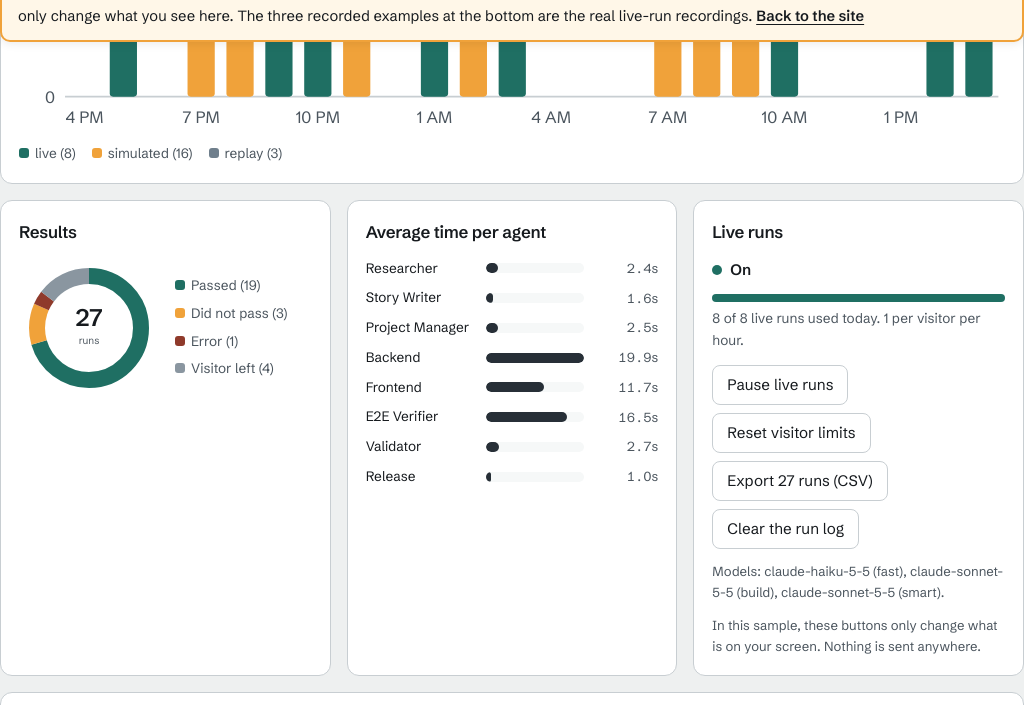
Test: DemoDashboard (public sample-data page) › lets a visitor try the controls on their own screen: pause, resume, clear
(page scrolled)
Click the button "Pause live runs" at (780, 385), box [712,365,848,405]
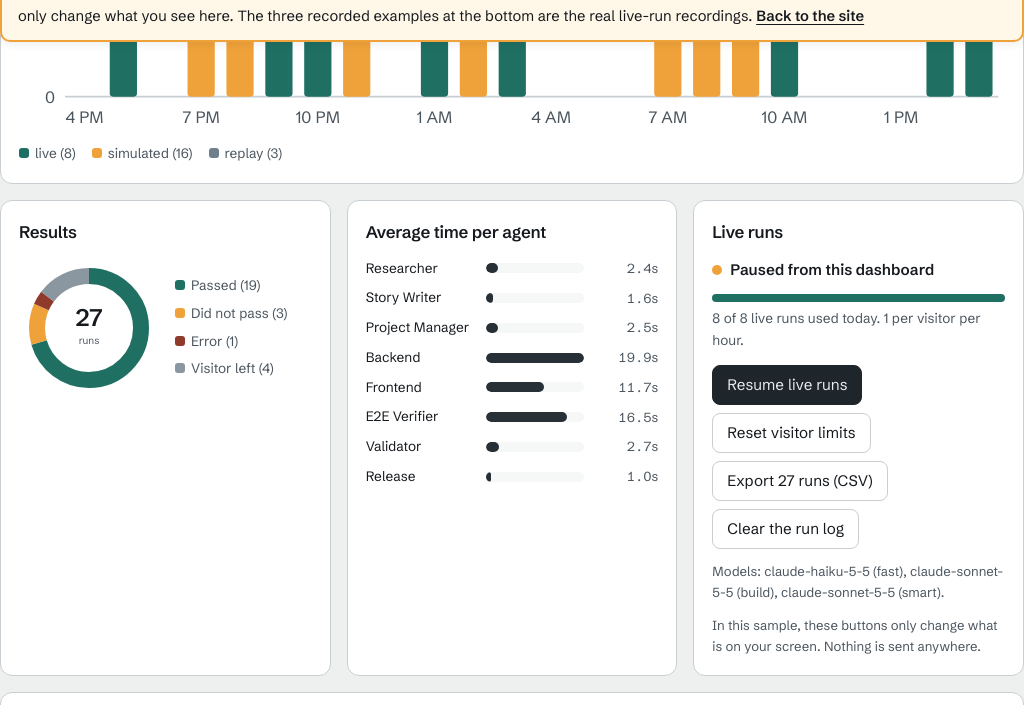
Expected: the text "Paused from this dashboard" is shown, [712,260,934,279]
Click the button "Resume live runs" at (787, 385), box [712,365,862,405]
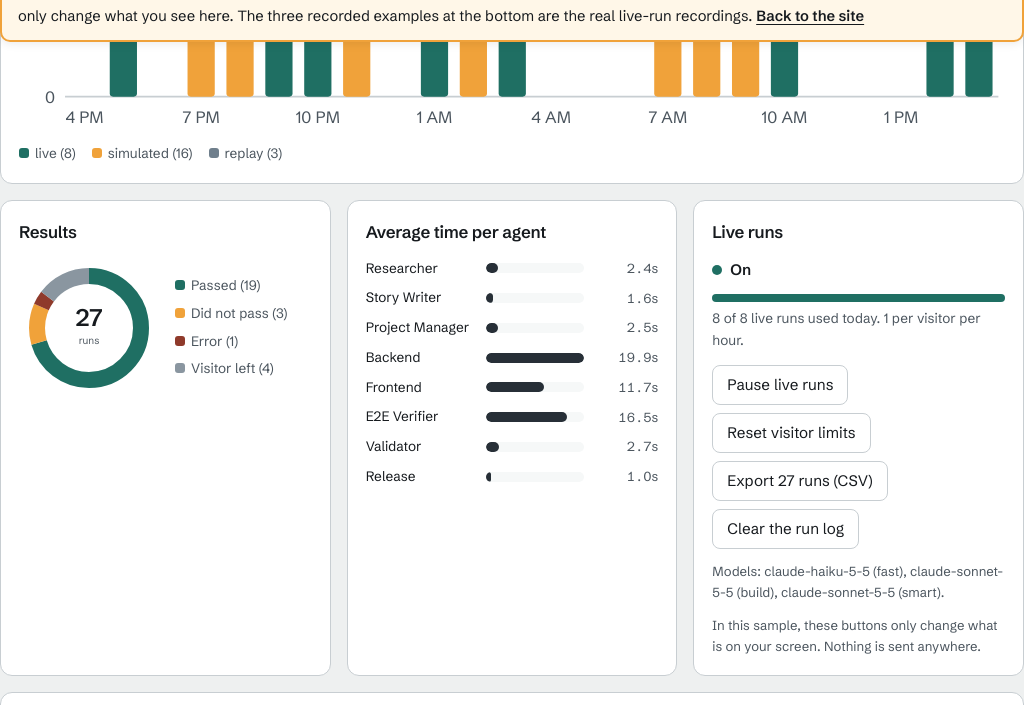
Expected: the text "On" is shown, [712,260,751,279]
Click the button "Clear the run log" at (786, 529), box [712,509,859,549]
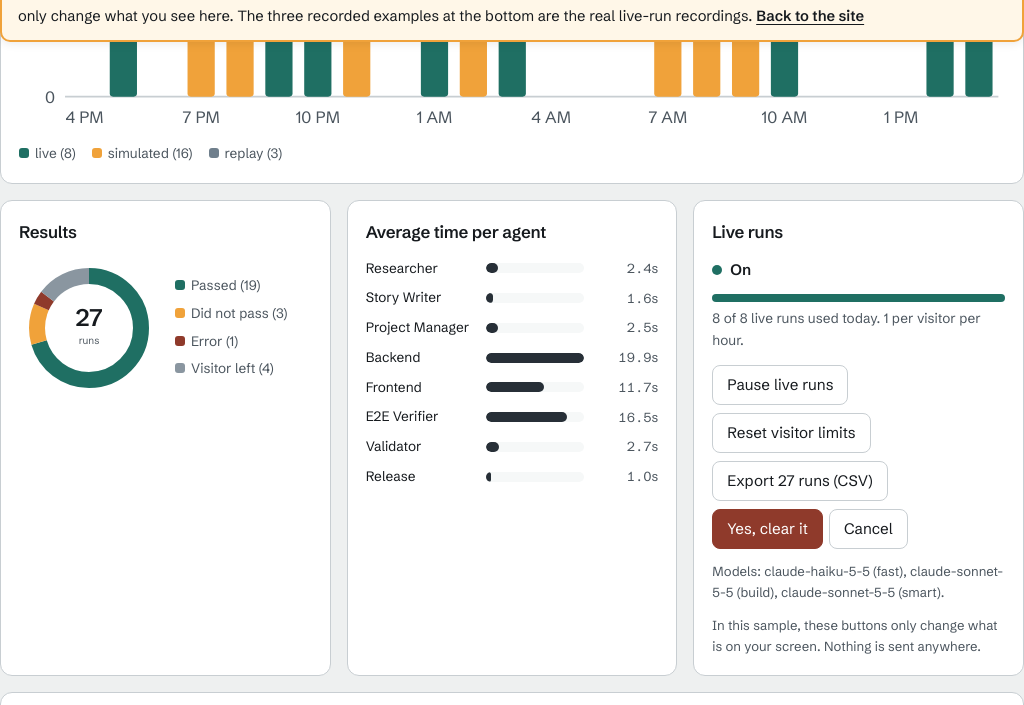
Click the button "Yes, clear it" at (768, 529), box [712,509,823,549]
(page scrolled)
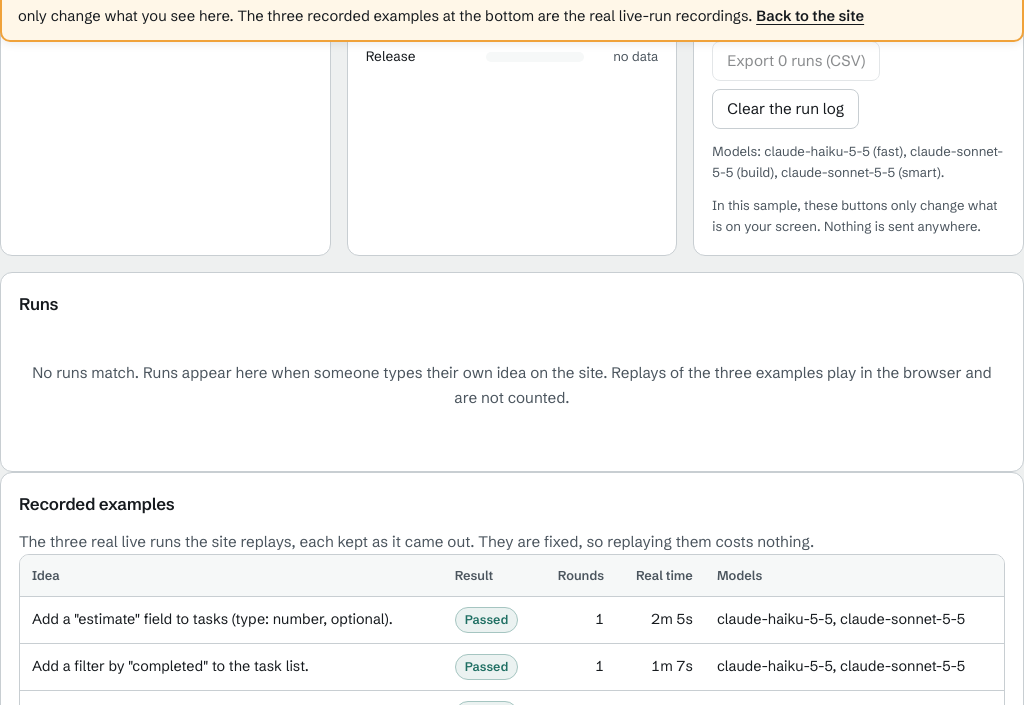
Expected: the text "No runs match" is shown, [32,363,992,407]
